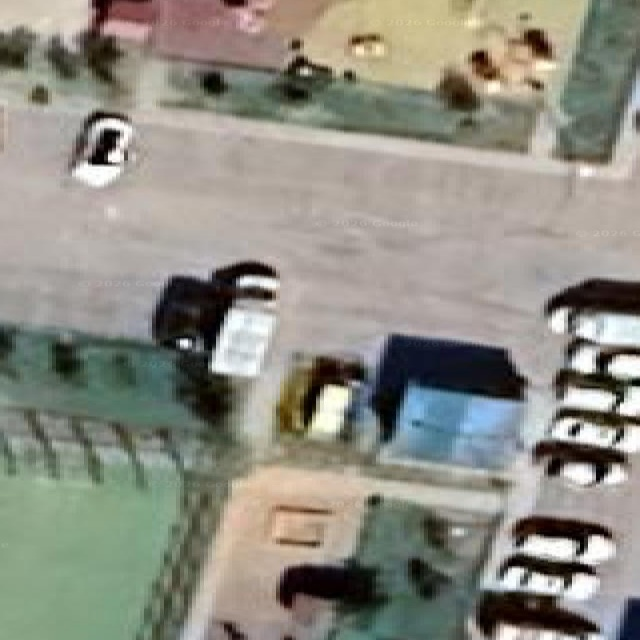car: (367, 333, 527, 467), (151, 261, 278, 375), (151, 261, 278, 350), (209, 261, 278, 375), (276, 355, 364, 440), (276, 562, 383, 626), (473, 591, 603, 639), (544, 280, 639, 344), (151, 276, 230, 351), (209, 296, 275, 375), (512, 515, 615, 564), (492, 553, 597, 600), (71, 111, 132, 187), (533, 440, 627, 486), (276, 564, 375, 607), (547, 408, 639, 452), (556, 369, 639, 417), (553, 368, 626, 412), (564, 339, 639, 379), (303, 383, 353, 440), (211, 260, 279, 299), (420, 511, 483, 552), (280, 55, 332, 100), (489, 619, 603, 639), (520, 27, 555, 70), (596, 347, 639, 379), (564, 339, 600, 372), (284, 55, 331, 80), (467, 49, 499, 81), (231, 3, 263, 35), (347, 32, 387, 57), (615, 598, 639, 639), (544, 303, 575, 332), (615, 380, 639, 415), (211, 620, 246, 639)
